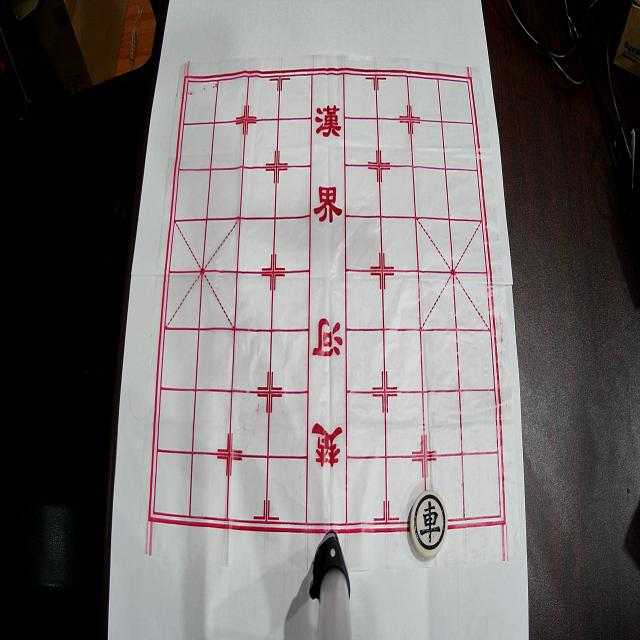black-chariot: (410, 490, 448, 558)
